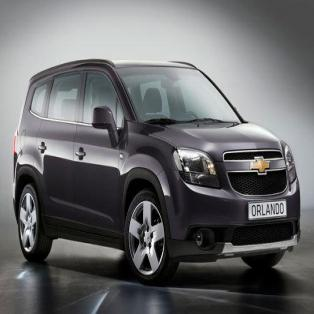Auto: (12, 62, 302, 284)
